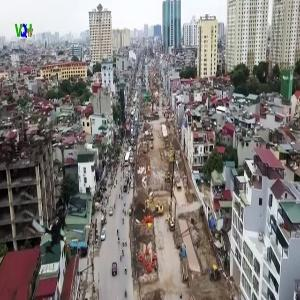drone: (27, 207, 79, 259)
